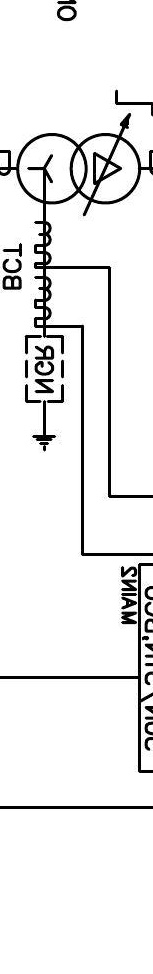11522_tx_dyn1: (15, 132, 142, 205)
NGR_future: (24, 334, 65, 452)
